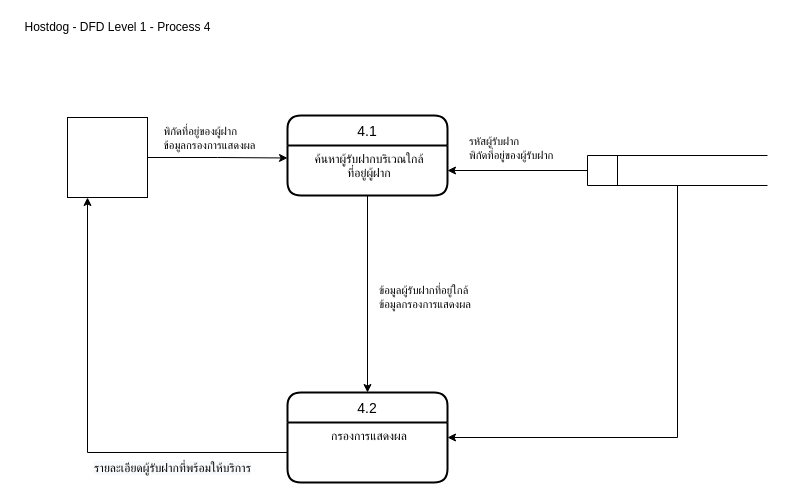
This 785x500 diagram has some shape labels left out. Each missing label, with the centre of its shape:
"D4 ข้อมูลผู้รับฝาก" belongs at point 677,170.
"ผู้ใช้งานทั่วไป" belongs at point 107,157.
